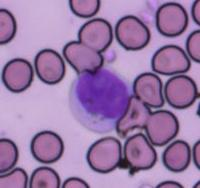L: (69, 64, 132, 132)
